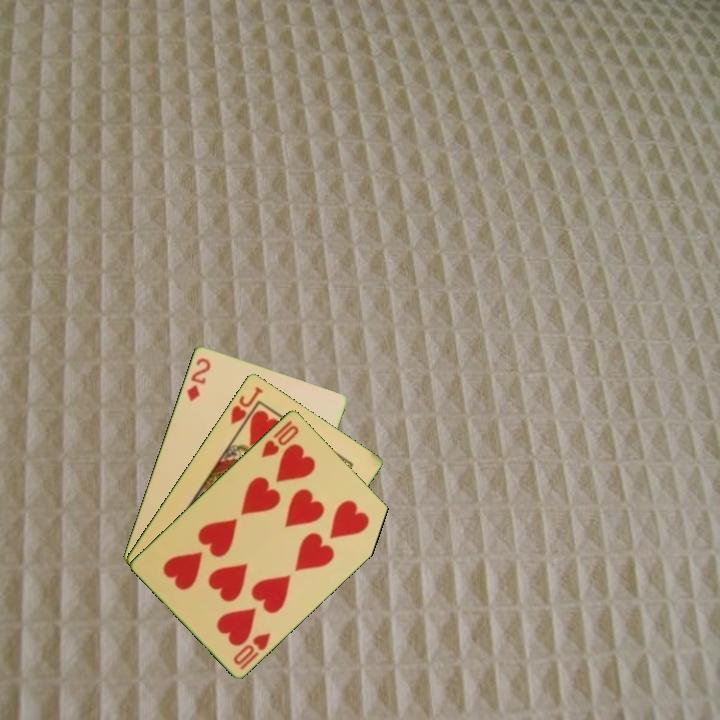10h: (258, 417, 302, 460), (230, 629, 274, 672)
2d: (183, 354, 213, 404)
Jh: (227, 383, 266, 435)
